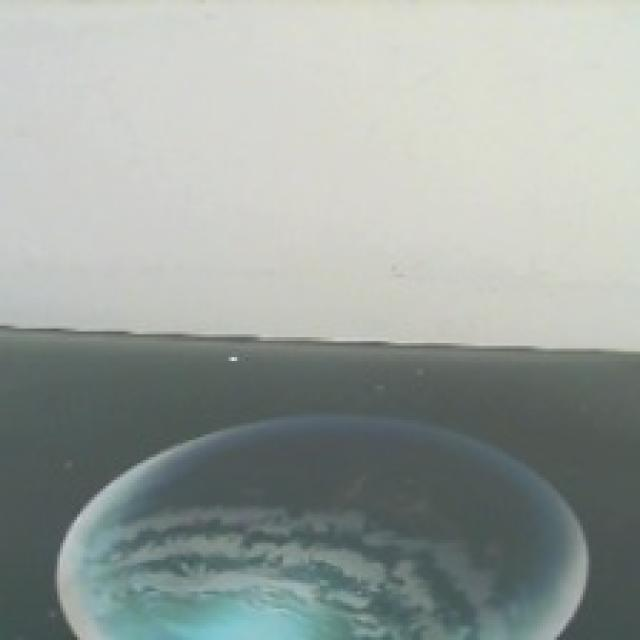Earth: (51, 411, 588, 640)
